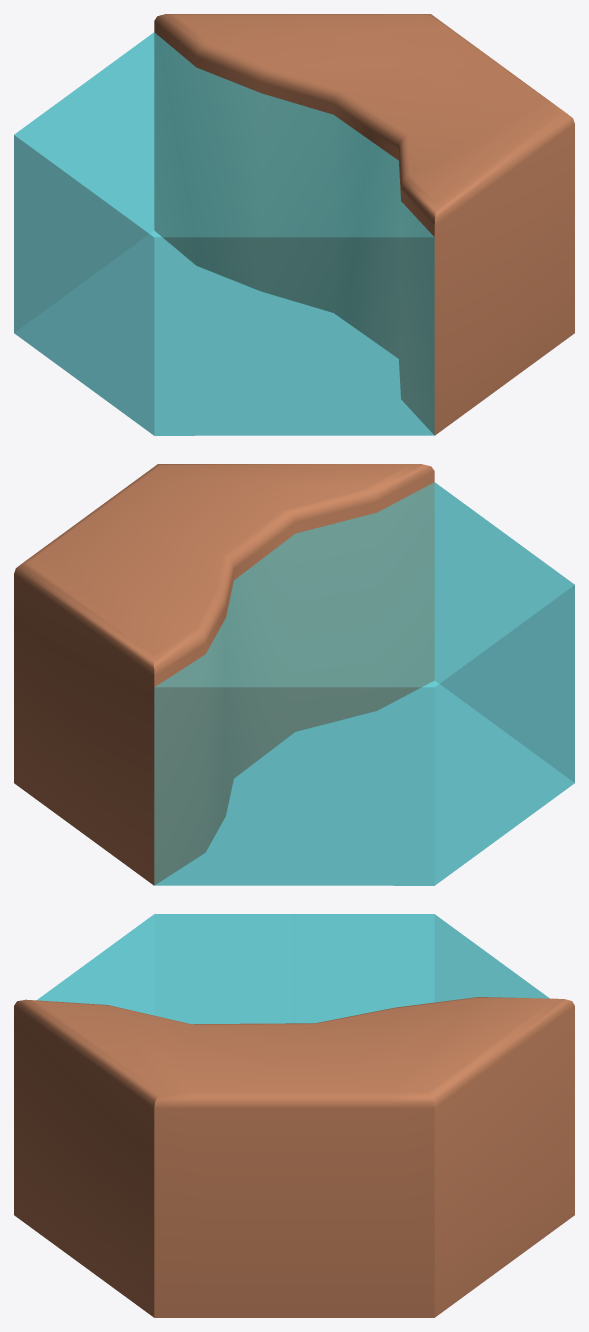
The model's file is hex_rock_waterC.fbx.
3 renders of one model, top to bottom at view 1: azimuth 30°, elevation 25°; view 2: azimuth 150°, elevation 25°; view 3: azimuth 270°, elevation 25°, orthographic.
Parts seen in each view (by area): view 1: hex_rock_waterC; view 2: hex_rock_waterC; view 3: hex_rock_waterC.
Part boxes in pixels (box(x1,y1,x2,y2)): hex_rock_waterC: box(14, 14, 574, 435); hex_rock_waterC: box(14, 464, 574, 885); hex_rock_waterC: box(14, 914, 574, 1317).
Bounding box in the file's own units: 2 × 1 × 2.31.
